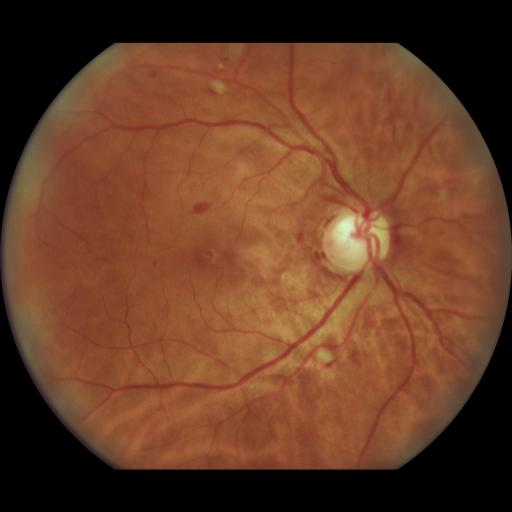Optic Cup: (334, 216, 369, 245)
Optic Disc: (322, 208, 390, 272)
